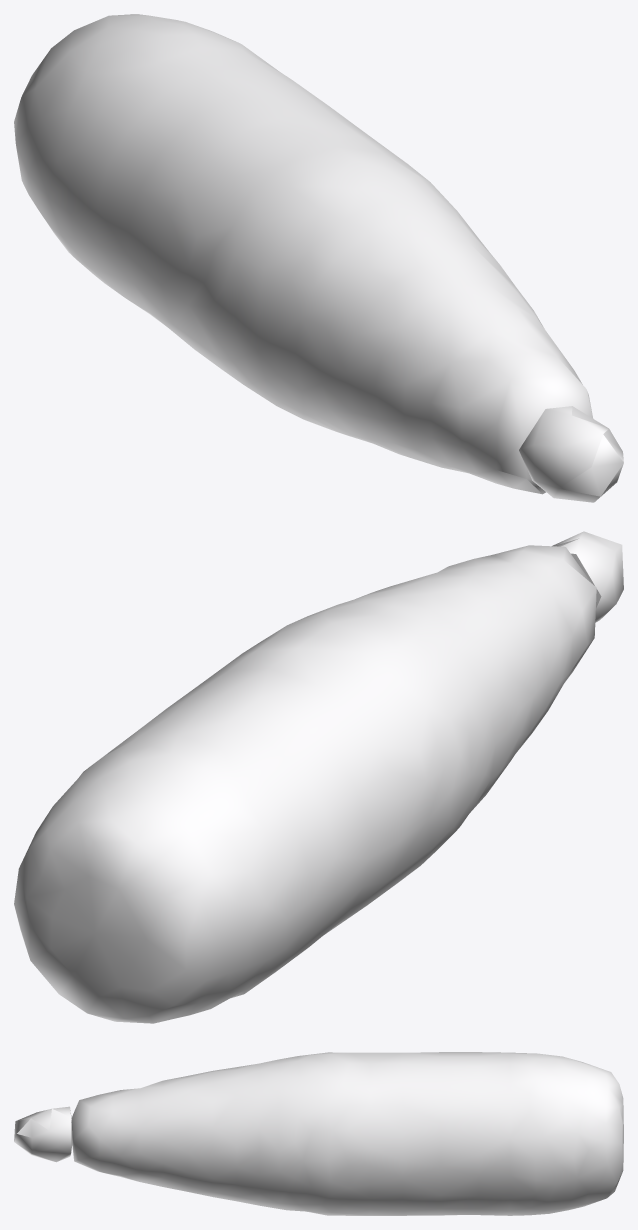
File: bullet.fbx
3 renders of one model, top to bottom at view 1: azimuth 30°, elevation 25°; view 2: azimuth 150°, elevation 25°; view 3: azimuth 270°, elevation 25°, orthographic. The views are drawn at different scales.
Parts seen in each view (by area): view 1: bullet; view 2: bullet; view 3: bullet.
Part boxes in pixels (x1,y1,x2,y2): bullet: (14,14,623,502); bullet: (14,531,623,1023); bullet: (14,1052,623,1215).
Size of the model in its own units: 0.4693 by 0.4685 by 1.74.
Materials: 1 (1 with a texture image).
